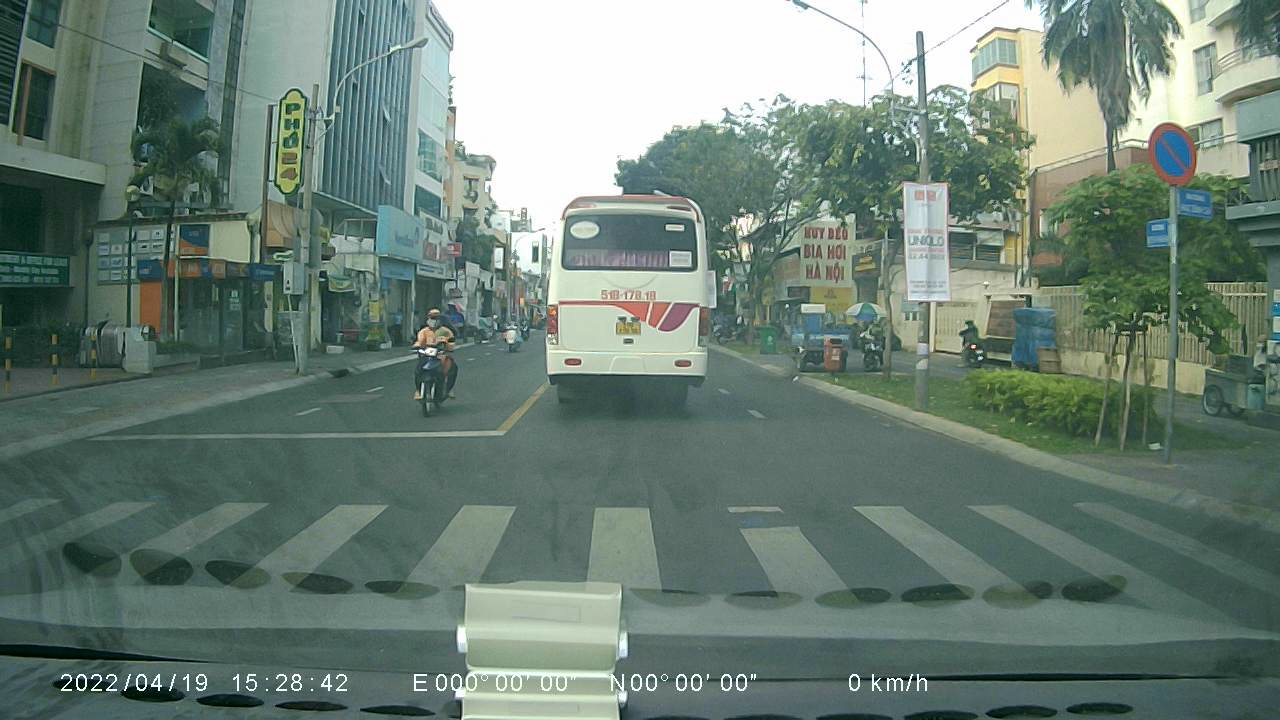Cam do xe: (1148, 115, 1197, 188)
